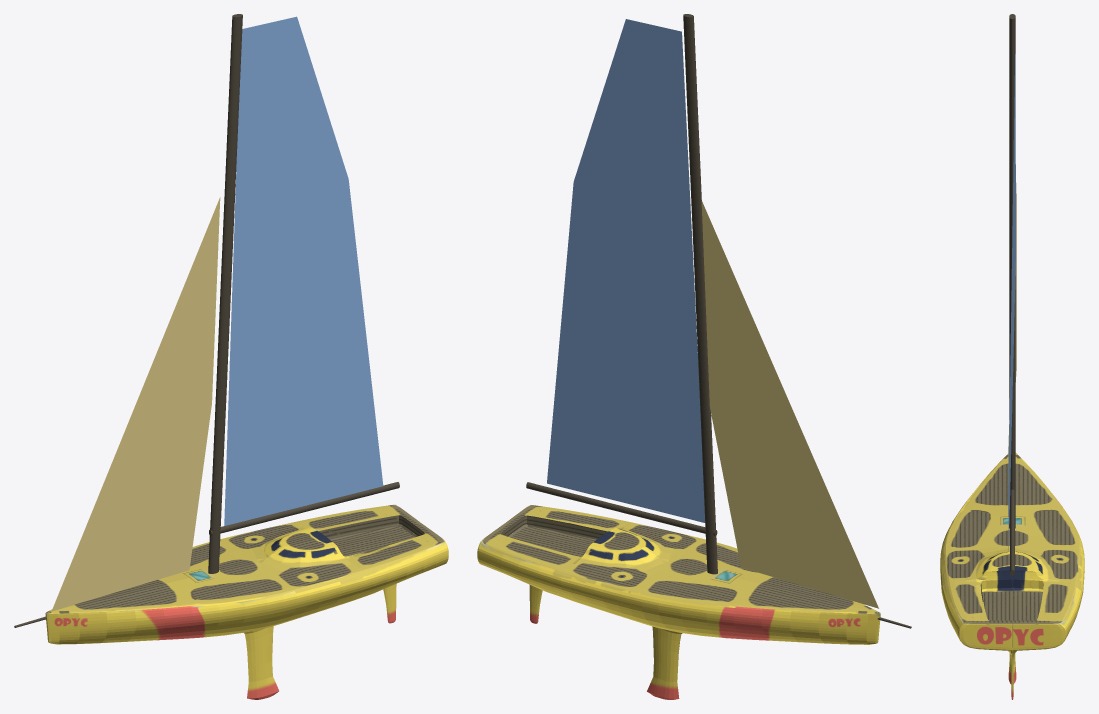
The model's file is SailboatOPYCmodel.glb.
3 renders of one model, left to right at view 1: azimuth 30°, elevation 25°; view 2: azimuth 150°, elevation 25°; view 3: azimuth 270°, elevation 25°, orthographic. The views are drawn at different scales.
Visible parts, largest first — view 1: Main, Hull, Buja, mastro, retranca; view 2: Main, Hull, Buja, mastro, retranca; view 3: Hull, mastro, Main, retranca, Buja.
Boxes of the visible parts, box(x1,y1,x2,y2) form: Main: box(224, 16, 383, 525); Hull: box(45, 504, 448, 699); Buja: box(51, 197, 220, 611); mastro: box(208, 14, 242, 573); retranca: box(209, 482, 399, 535); Main: box(547, 19, 705, 522); Hull: box(477, 505, 880, 699); Buja: box(701, 201, 878, 608); mastro: box(683, 14, 717, 574); retranca: box(526, 482, 717, 536); Hull: box(940, 452, 1084, 699); mastro: box(1009, 14, 1015, 528); Main: box(1008, 54, 1015, 550); retranca: box(1010, 489, 1014, 575); Buja: box(1008, 183, 1016, 484).
Bounding box in the file's own units: 10.26 × 16.6 × 3.33.
4 materials, 1 textured.
